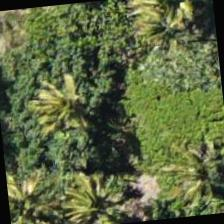Kelapa_Sawit: (0, 48, 99, 148), (37, 152, 135, 223), (4, 150, 72, 223)
